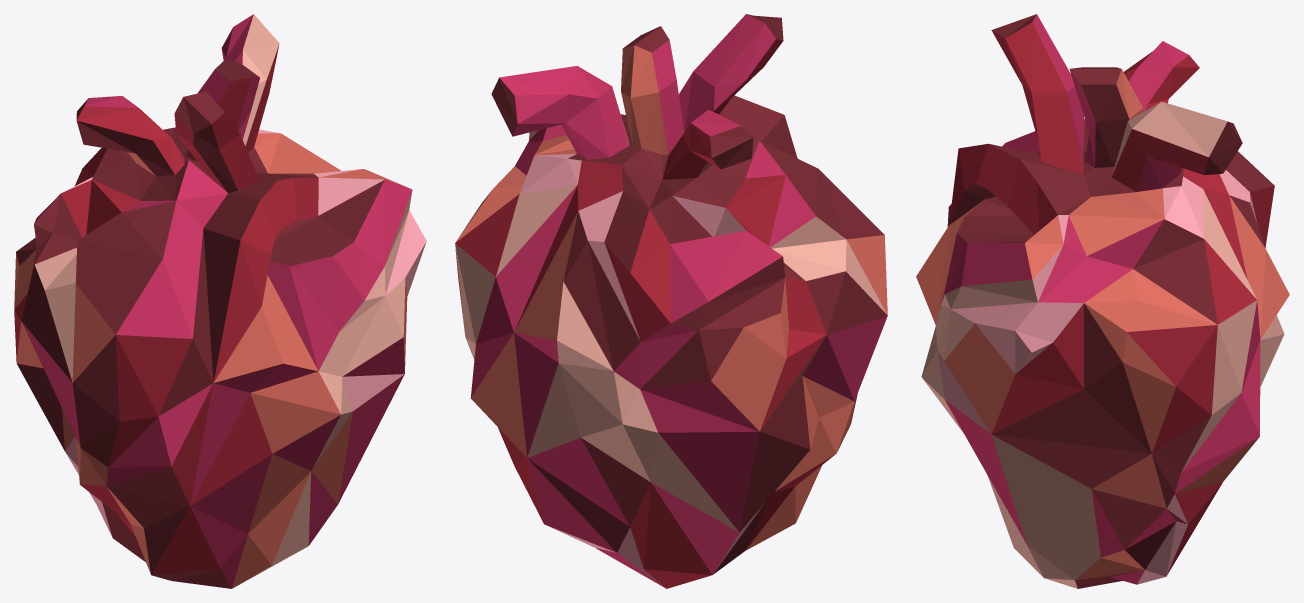
Rendered from heart3.glb.
The picture shows the model from 3 angles, left to right: view 1: azimuth 30°, elevation 25°; view 2: azimuth 150°, elevation 25°; view 3: azimuth 270°, elevation 25°; orthographic projection. The views are drawn at different scales.
Parts seen in each view (by area): view 1: Object_3, Object_2, Object_4, Object_5, Object_6, Object_7; view 2: Object_2, Object_3, Object_4, Object_5, Object_6, Object_7; view 3: Object_3, Object_4, Object_5, Object_6, Object_2, Object_7.
Boxes of the visible parts, left/top/right/bottom form: Object_3: left=16, top=58, right=384, bottom=588; Object_2: left=22, top=14, right=412, bottom=588; Object_4: left=14, top=45, right=318, bottom=575; Object_5: left=14, top=133, right=410, bottom=588; Object_6: left=35, top=14, right=412, bottom=586; Object_7: left=62, top=129, right=426, bottom=536; Object_2: left=471, top=14, right=887, bottom=588; Object_3: left=491, top=14, right=887, bottom=574; Object_4: left=455, top=39, right=835, bottom=588; Object_5: left=455, top=45, right=887, bottom=550; Object_6: left=455, top=105, right=887, bottom=531; Object_7: left=520, top=130, right=764, bottom=587; Object_3: left=947, top=14, right=1274, bottom=588; Object_4: left=949, top=22, right=1274, bottom=574; Object_5: left=916, top=69, right=1289, bottom=579; Object_6: left=921, top=101, right=1284, bottom=588; Object_2: left=942, top=14, right=1260, bottom=584; Object_7: left=937, top=170, right=1257, bottom=584.
Bounding box in the file's own units: 11.58 × 16.74 × 10.45.
